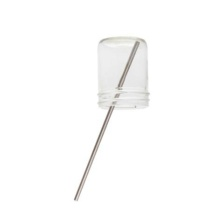drinking_straw: (70, 38, 144, 204)
glass: (92, 34, 155, 114)
